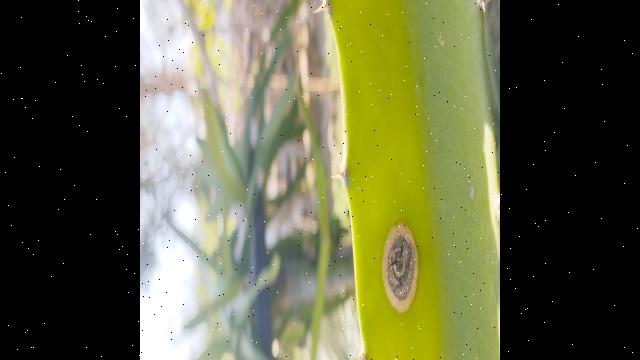stemcanker: (376, 220, 431, 317)
